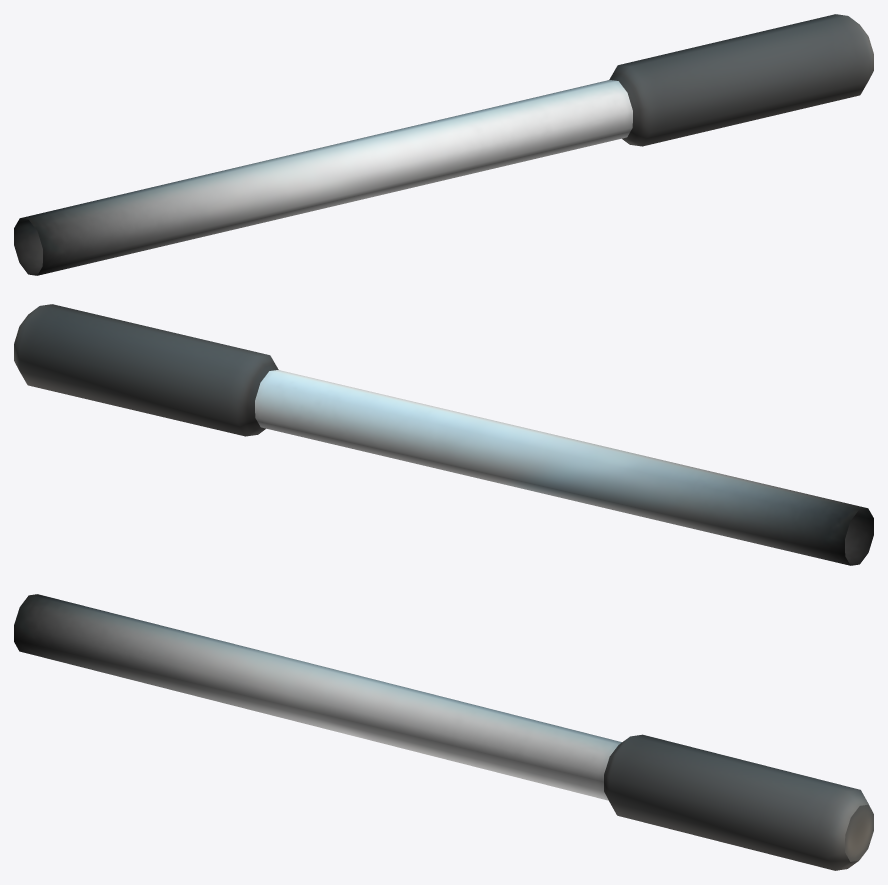
The model's file is SM_Vehicles_Saxo_Handbrake.FBX.
3 renders of one model, top to bottom at view 1: azimuth 30°, elevation 25°; view 2: azimuth 150°, elevation 25°; view 3: azimuth 330°, elevation 25°, orthographic.
Parts seen in each view (by area): view 1: SM_Vehicles_Saxo_Handbrake; view 2: SM_Vehicles_Saxo_Handbrake; view 3: SM_Vehicles_Saxo_Handbrake.
Part boxes in pixels (<box>): SM_Vehicles_Saxo_Handbrake: <box>14,14,873,275</box>; SM_Vehicles_Saxo_Handbrake: <box>14,304,873,565</box>; SM_Vehicles_Saxo_Handbrake: <box>14,594,873,870</box>.
Size of the model in its own units: 42.33 by 3.87 by 3.59.
Materials: 1 (1 with a texture image).
